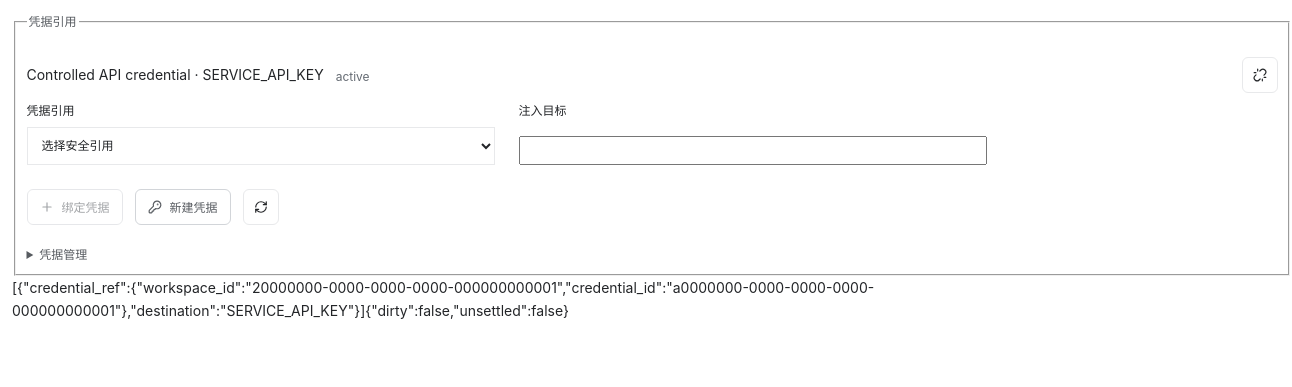
Test: safe credential selection and original managed write › rejects a duplicate destination locally and leaves the original credential Ref unchanged
Select "Controlled API credential · active" in the dropdown labelled "凭据引用" at (260, 146), box [26,128,494,166]
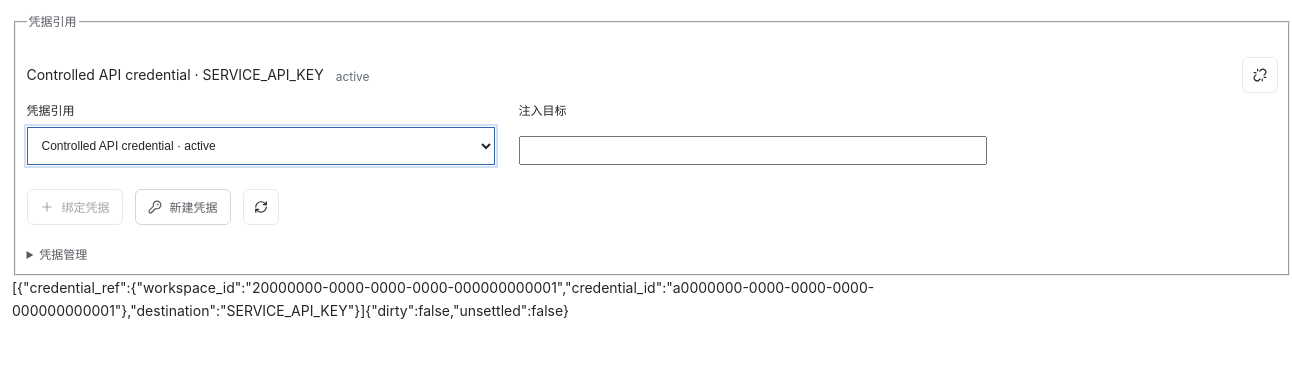
Type "service_api_key" into the field labelled "注入目标" at (752, 151), box [518,136,986,166]
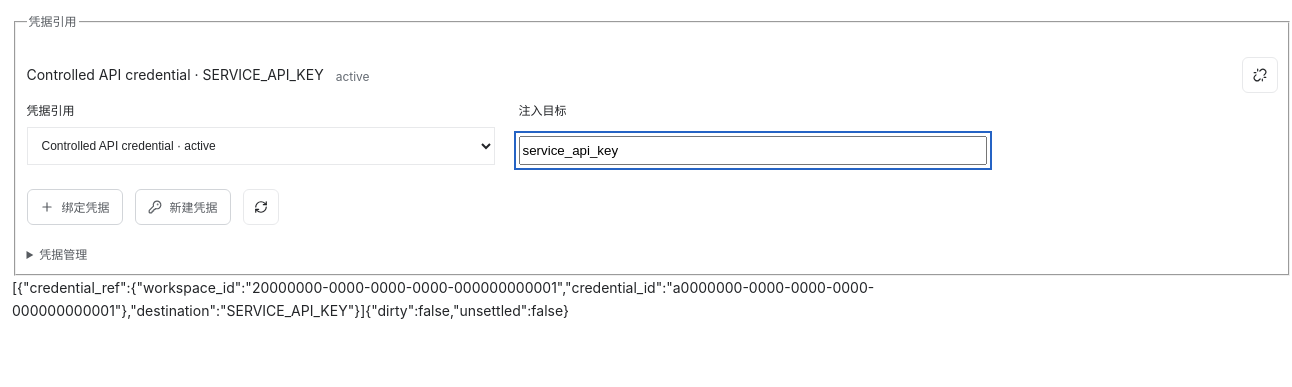
Click the button "绑定凭据" at (74, 208), box [26,190,122,226]
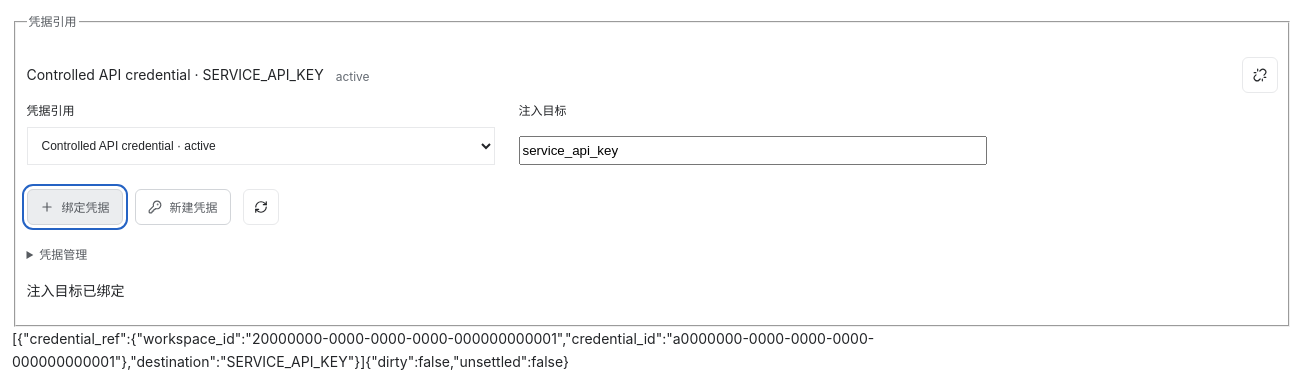
Check: the text "注入目标已绑定" is shown, box [26,282,124,299]
